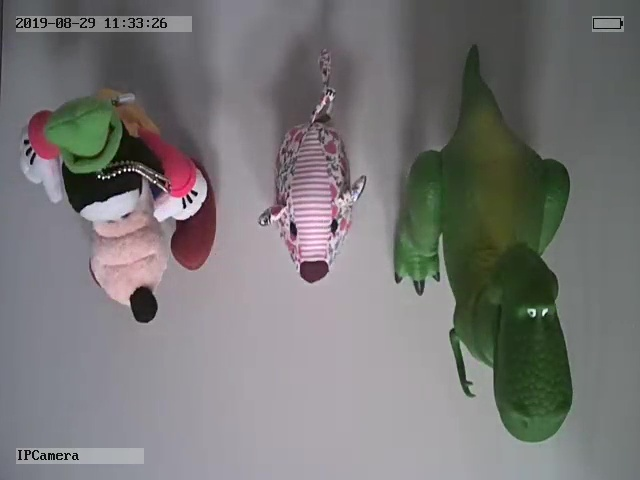goofy: (18, 90, 218, 325)
pig: (256, 54, 368, 285)
rex: (394, 45, 574, 443)
